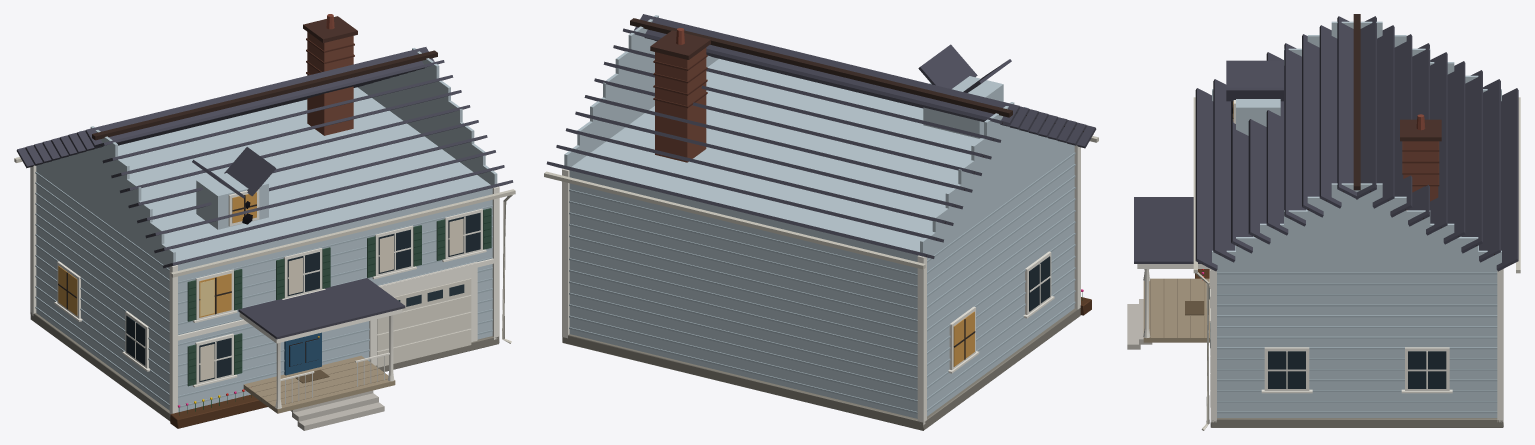
File: suburb_house_b.glb
The picture shows the model from 3 angles, left to right: view 1: azimuth 30°, elevation 25°; view 2: azimuth 150°, elevation 25°; view 3: azimuth 270°, elevation 25°; orthographic projection. The views are drawn at different scales.
Visible parts, largest first — view 1: suburb_house_b; view 2: suburb_house_b; view 3: suburb_house_b.
Part boxes in pixels (box(x1,y1,x2,y2)): suburb_house_b: box(14, 14, 515, 430); suburb_house_b: box(544, 14, 1098, 430); suburb_house_b: box(1127, 14, 1520, 430).
Bounding box in the file's own units: 12.83 × 9.65 × 12.34.
